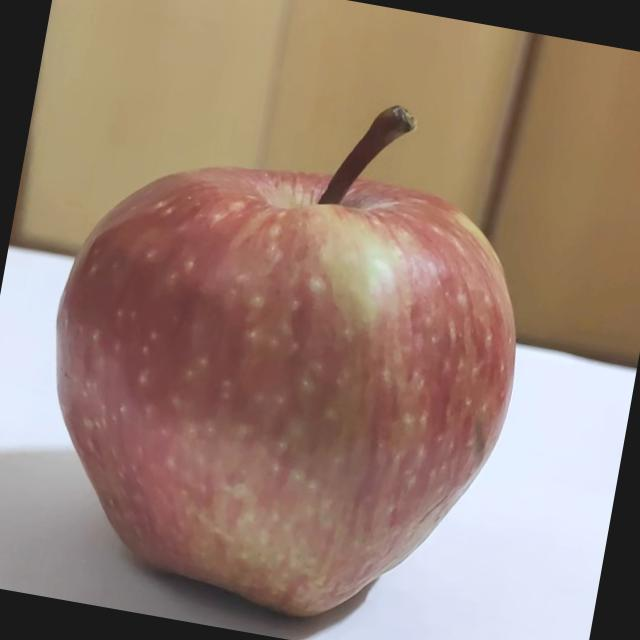apple: (12, 58, 554, 640)
